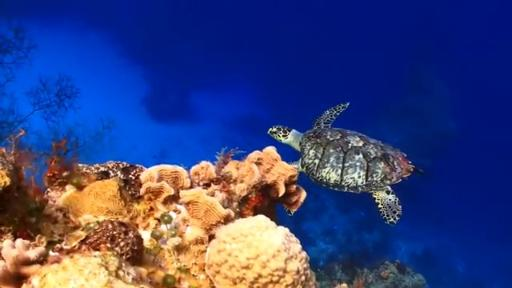Fish: (267, 102, 422, 224)
